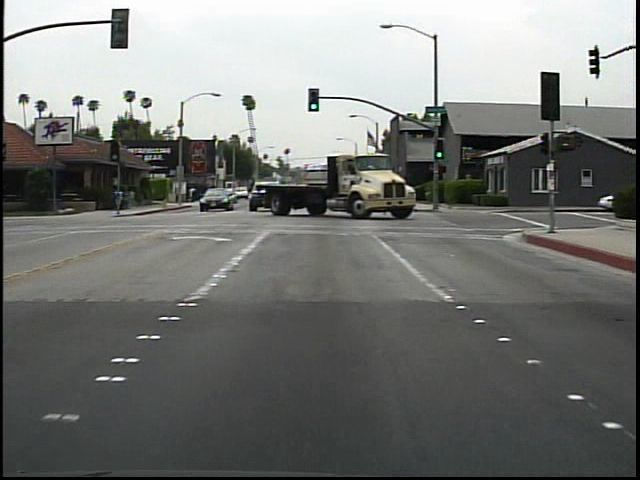person: (190, 182, 196, 205)
